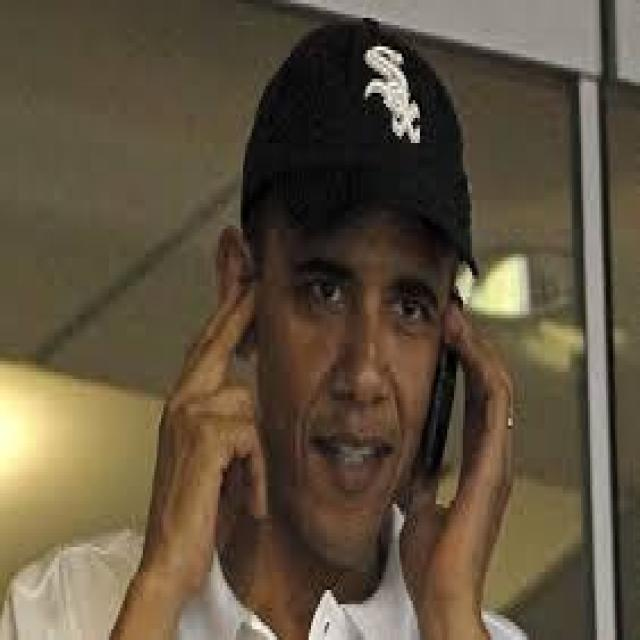cap: (229, 0, 502, 415)
